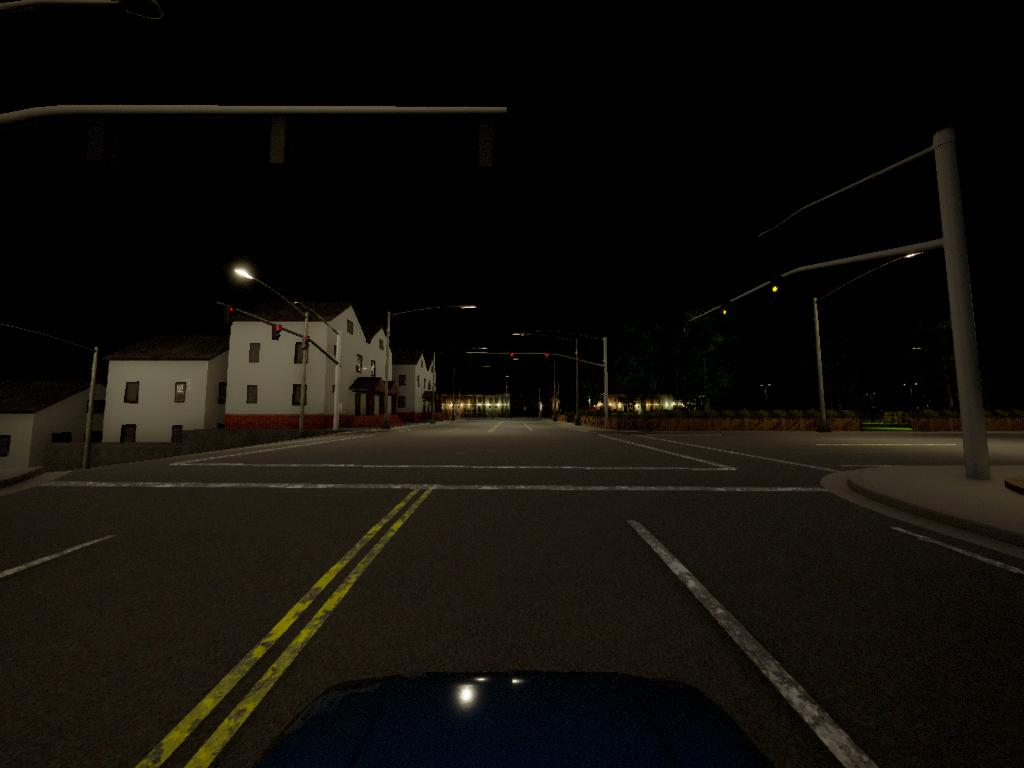traffic_light: (769, 273, 783, 298), (718, 300, 731, 320), (273, 325, 283, 340), (227, 306, 235, 323), (303, 336, 312, 350), (547, 353, 552, 362), (509, 353, 515, 360)
